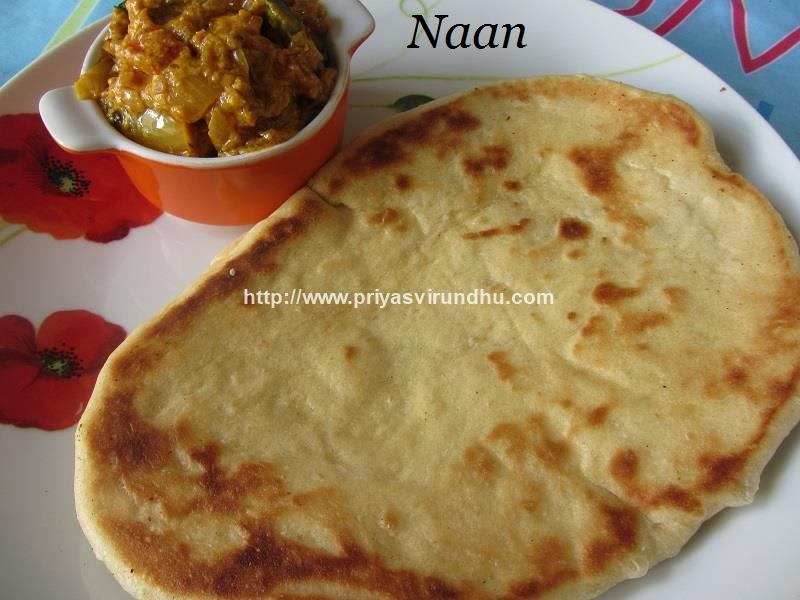aloo_paratha: (76, 76, 793, 600)
